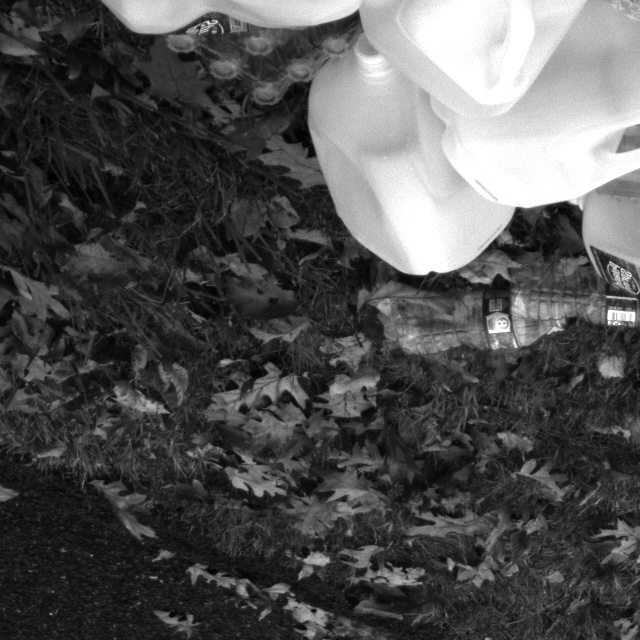bottle: (377, 288, 581, 378), (489, 256, 640, 354)
can: (317, 52, 522, 285), (460, 11, 640, 232), (350, 0, 588, 130), (560, 126, 640, 351)
container: (150, 0, 372, 132), (536, 99, 640, 223)
